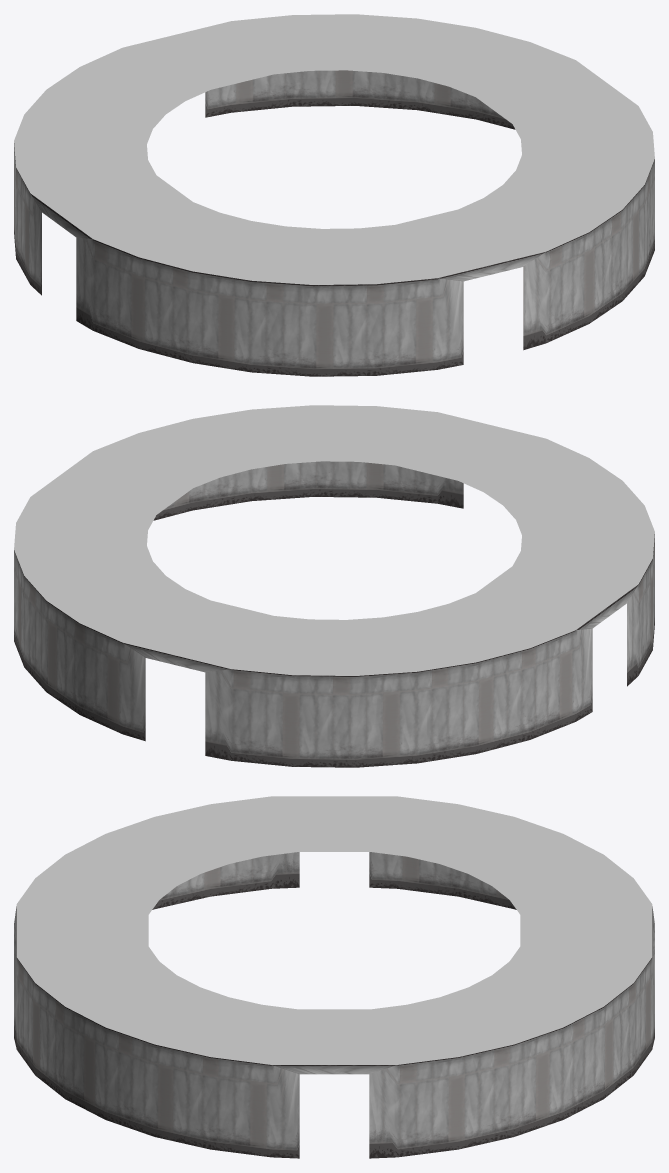
File: col_start_bottomFloor.fbx
The picture shows the model from 3 angles, top to bottom: view 1: azimuth 30°, elevation 25°; view 2: azimuth 150°, elevation 25°; view 3: azimuth 270°, elevation 25°; orthographic projection.
Visible parts, largest first — view 1: m_walls; view 2: m_walls; view 3: m_walls.
Part boxes in pixels (bbox=[...]): m_walls: bbox=[14, 14, 654, 376]; m_walls: bbox=[14, 405, 654, 767]; m_walls: bbox=[14, 796, 654, 1158].
Bounding box in the file's own units: 1484 × 236 × 1484.
